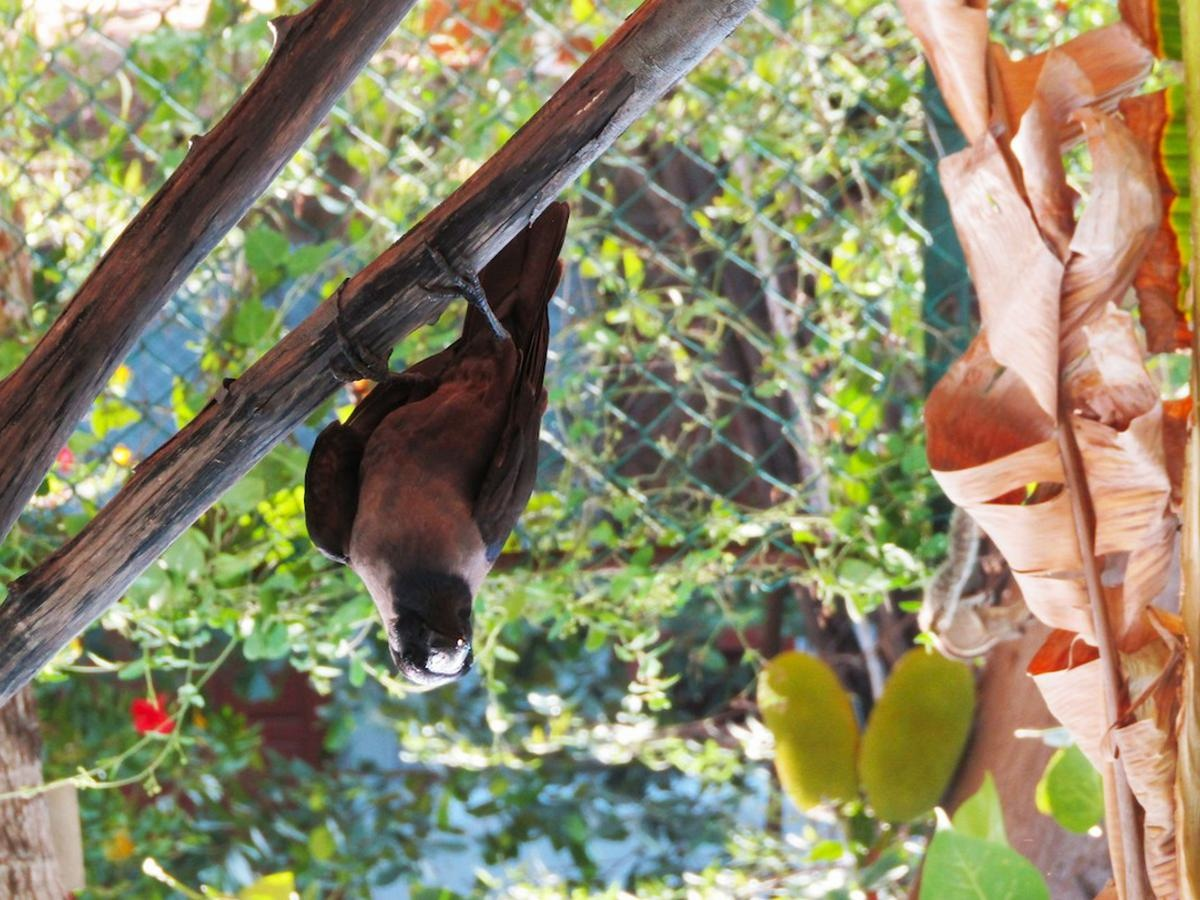crow: (329, 185, 578, 709)
